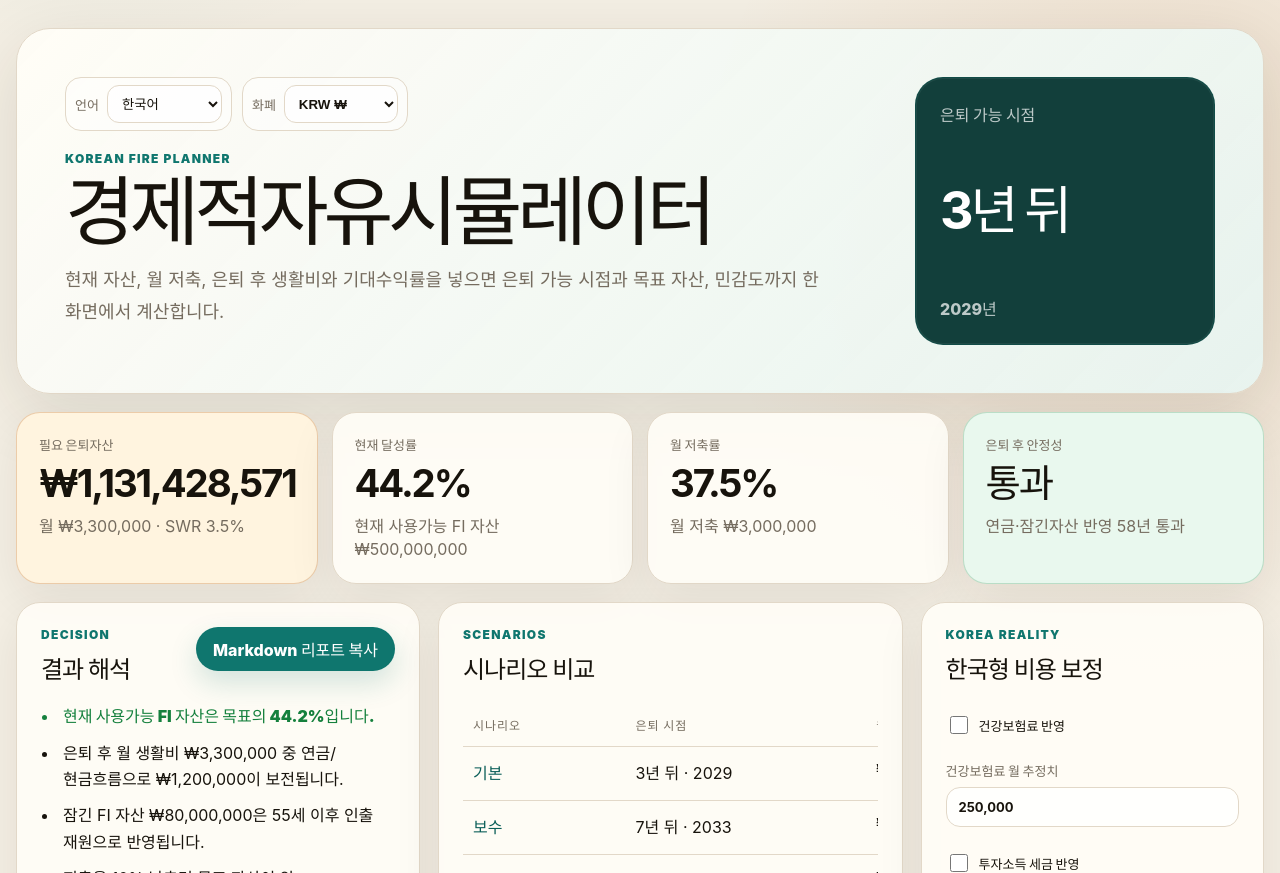
Test: EconomicFreedomSimulator app › shows decision-grade insights, scenario comparison, Korea costs, and report copy
Expected: the heading "결과 해석" is shown, [41,650,130,685]
Expected: the list item "현재 사용가능 FI 자산은 목표의 44.2%입니다." is shown, [59,703,395,730]
Click the checkbox labelled "건강보험료 반영" at (959, 725), box [950,716,968,734]
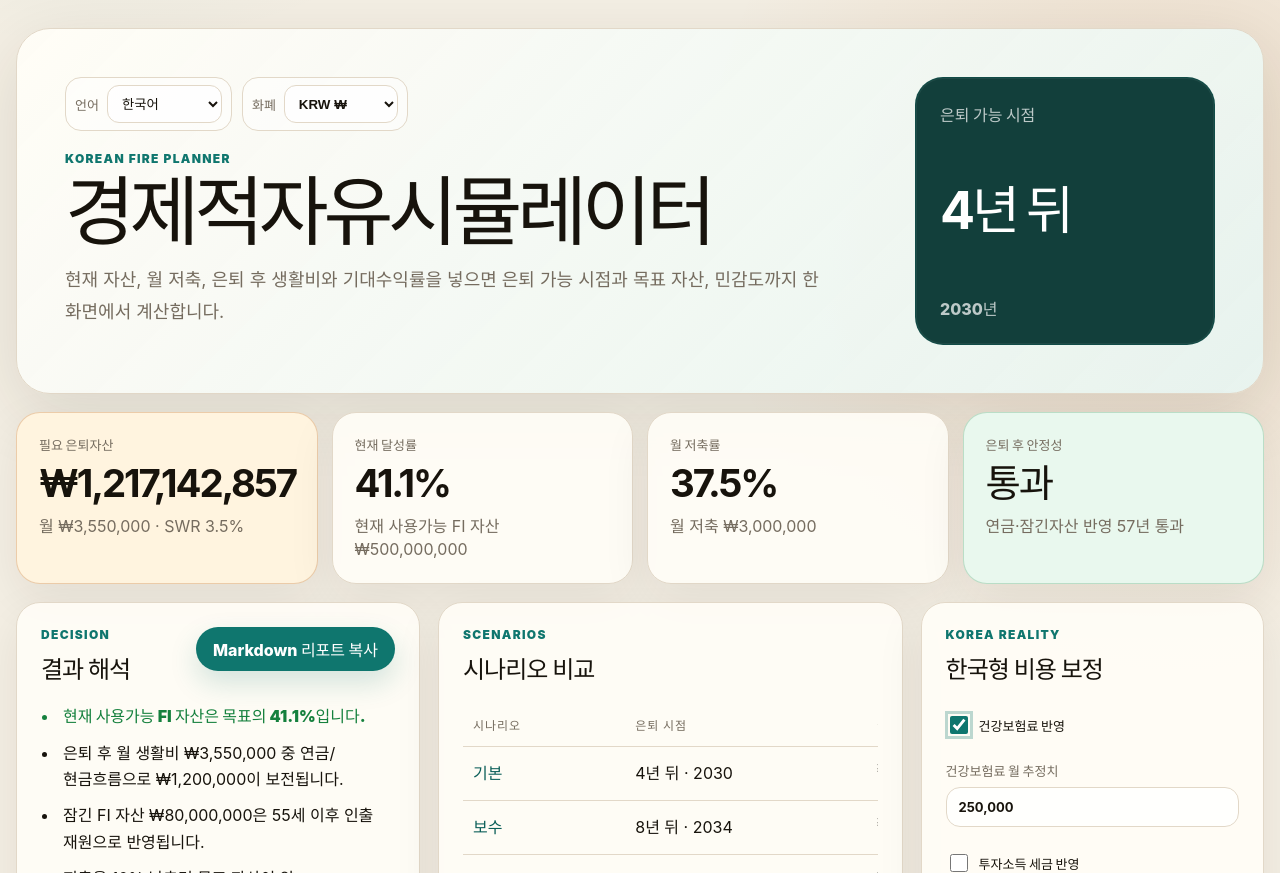
Replace the text in the field labelled "건강보험료 월 추정치" with "350,000" at (1092, 807), box [946,787,1239,827]
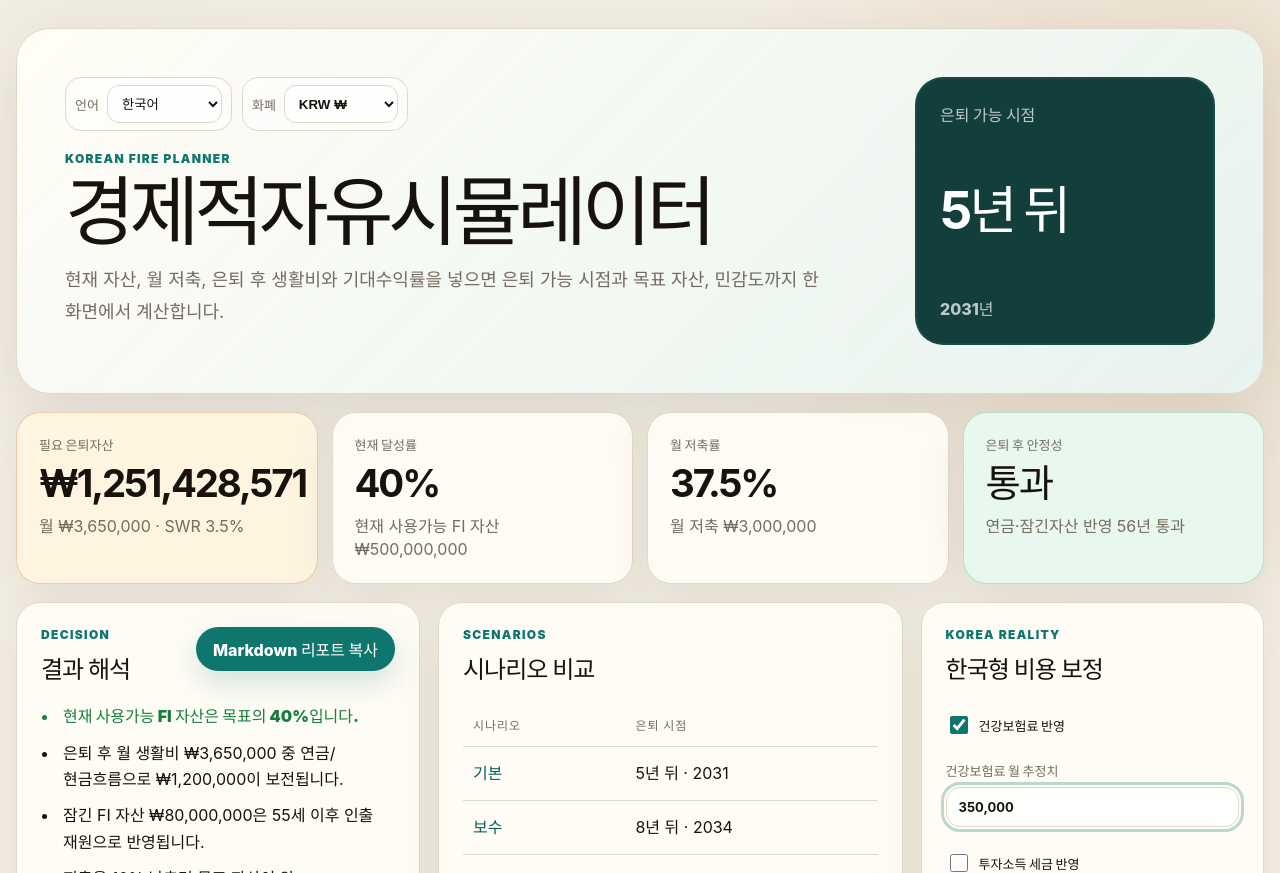
Click the button "Markdown 리포트 복사" at (295, 649), box [196,627,395,671]
(page scrolled)
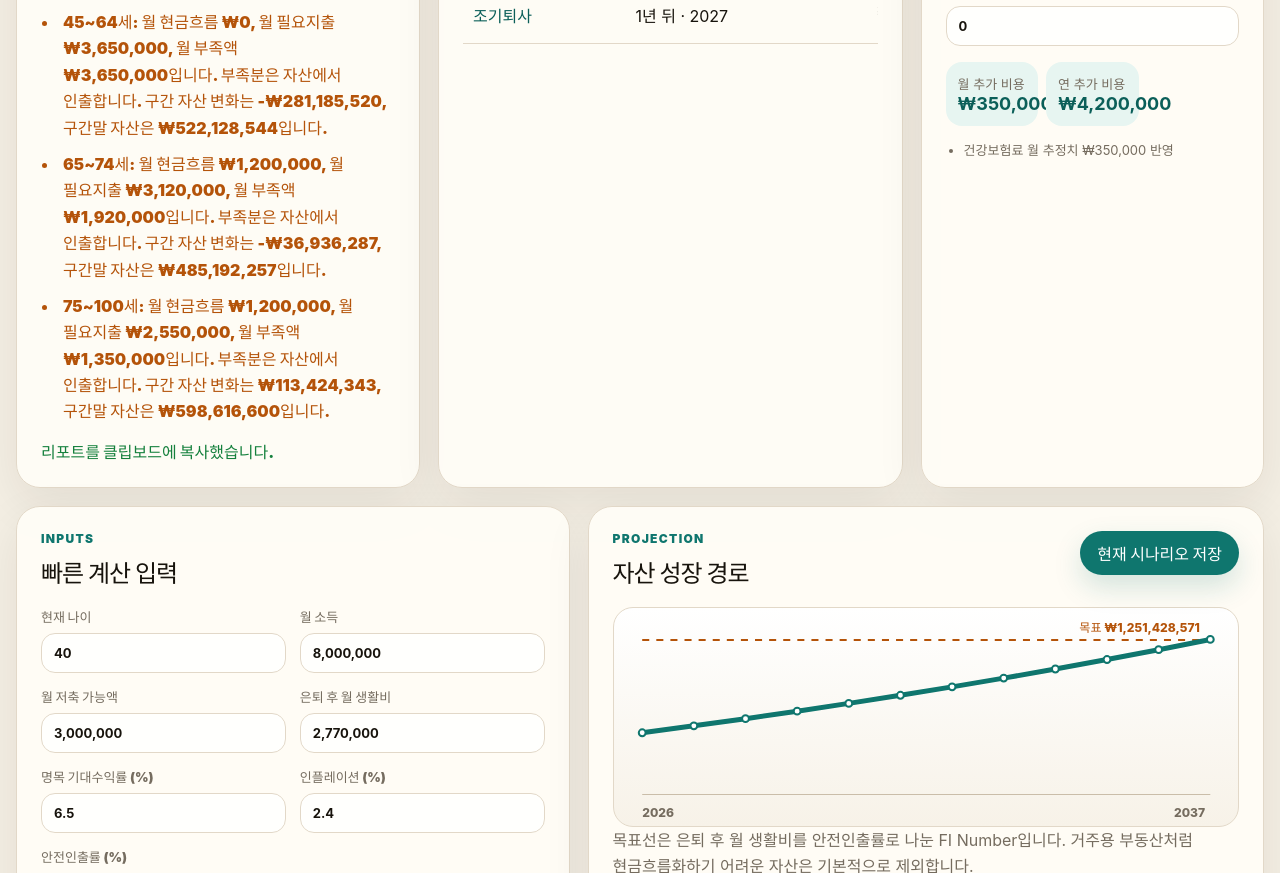
Result: the text "리포트를 클립보드에 복사했습니다." is shown at [41,442,274,462]
